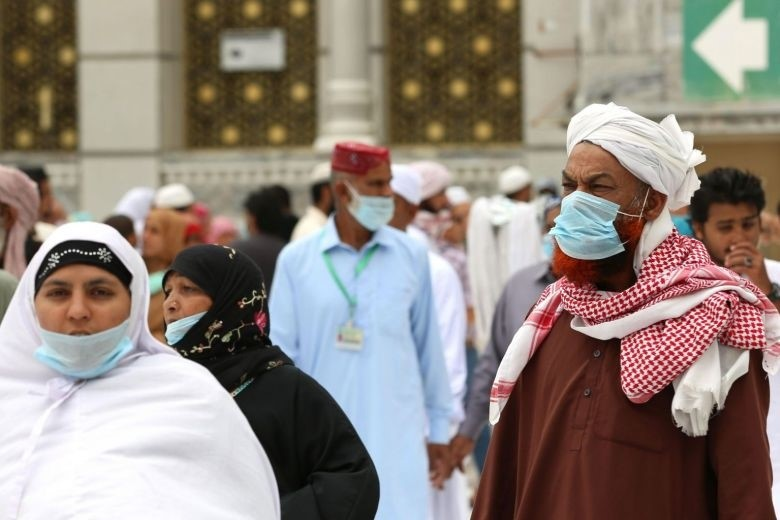face_no_mask: (696, 168, 763, 262)
face_with_mask: (557, 106, 697, 266), (35, 229, 146, 381), (162, 251, 261, 360), (326, 145, 396, 234)
